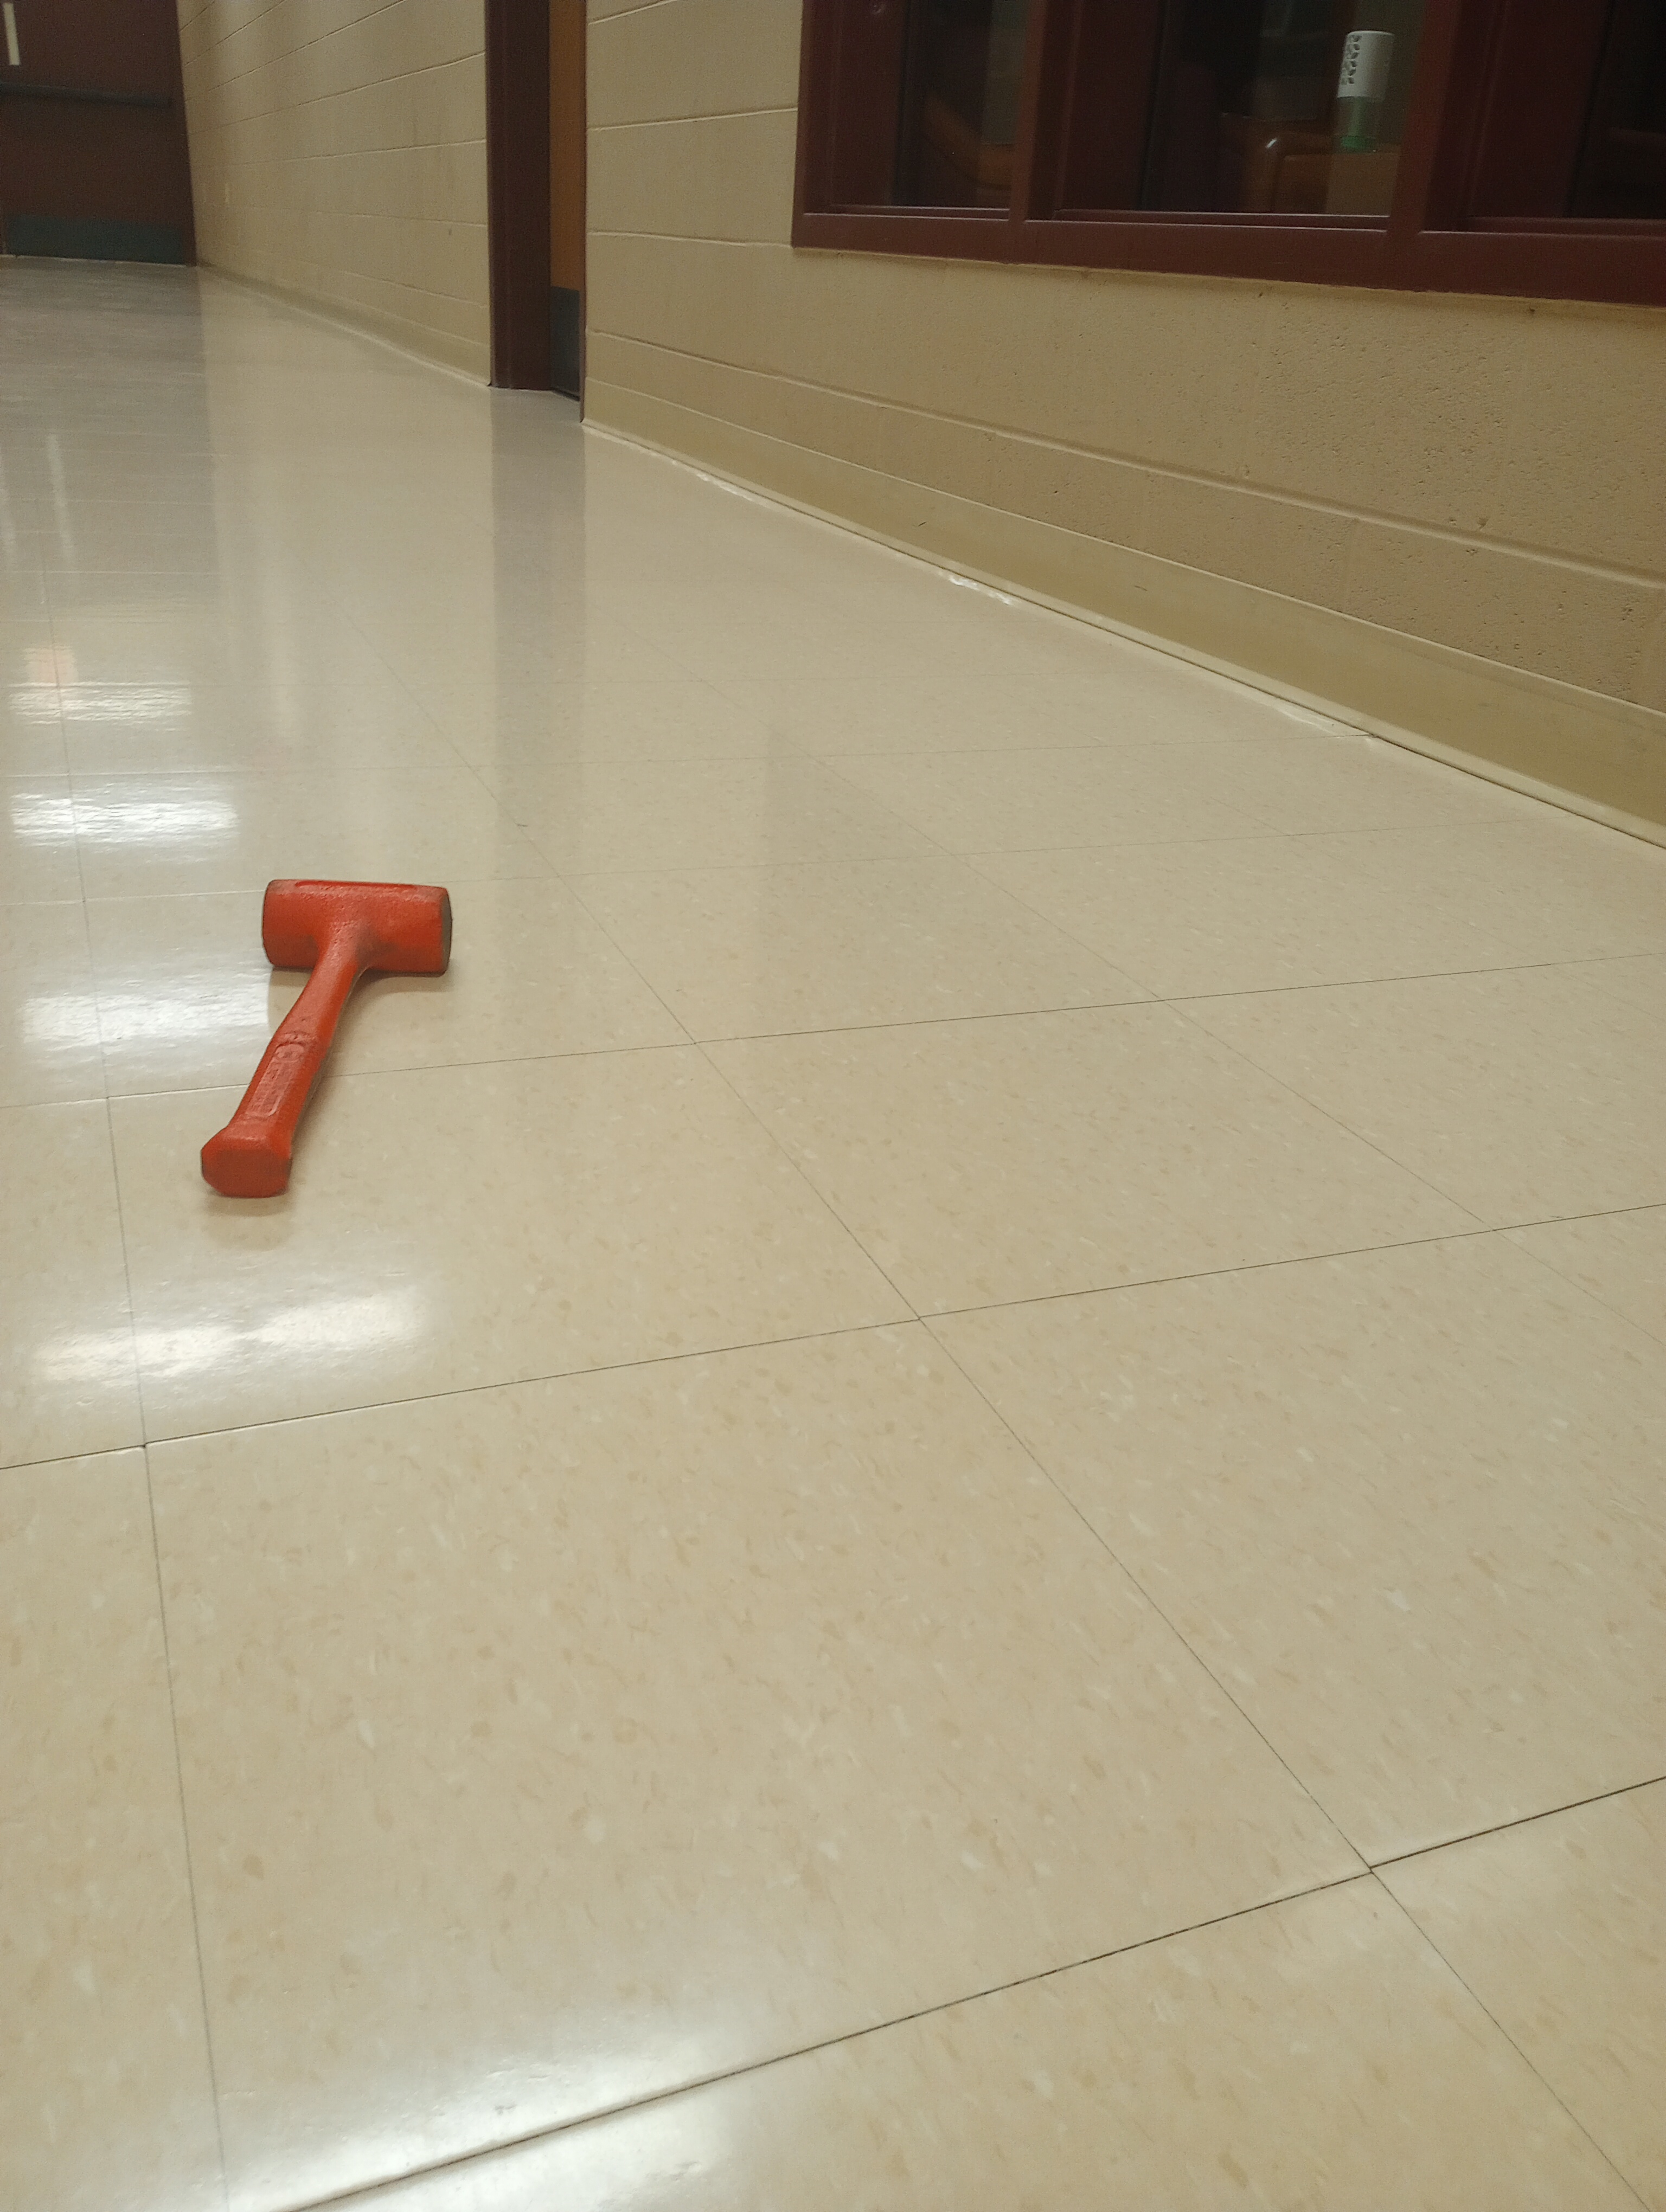bottle: (196, 867, 455, 1208)
